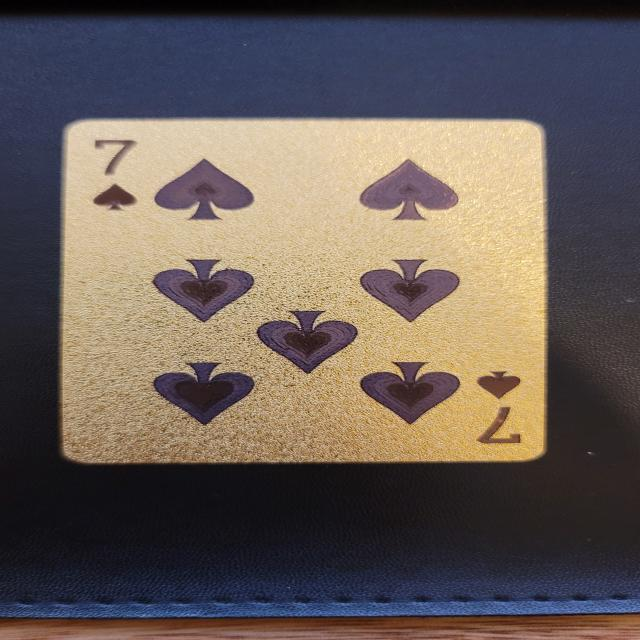7 of spades: (61, 118, 548, 464)
